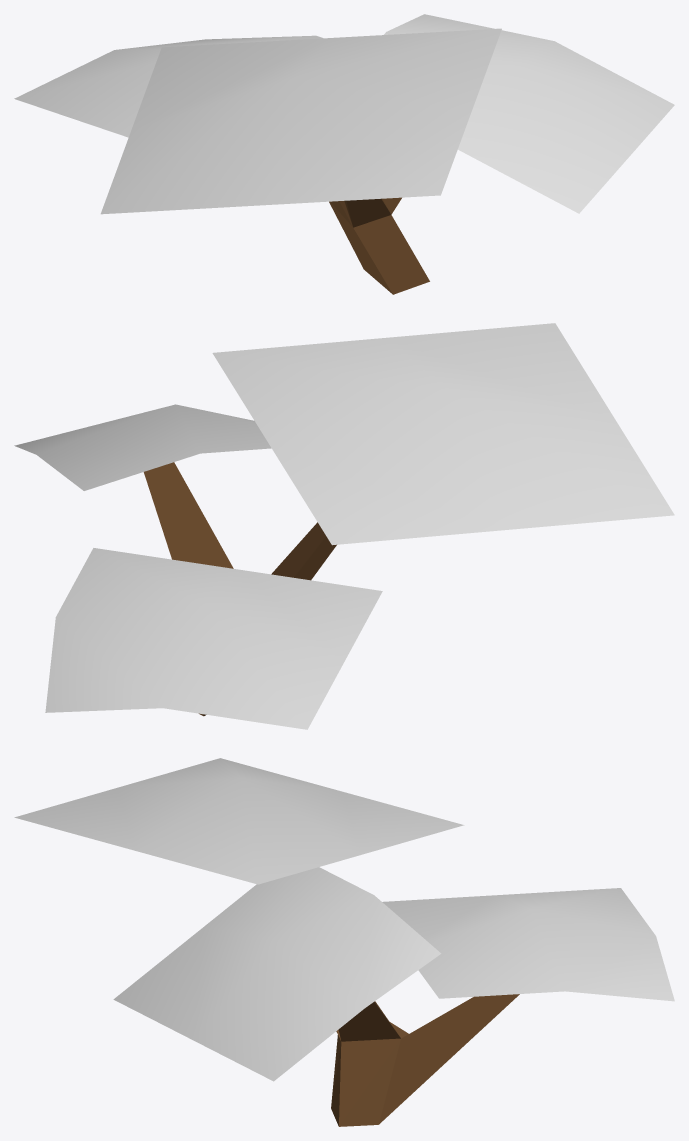
Rendered from flatFernSmall.fbx.
3 renders of one model, top to bottom at view 1: azimuth 30°, elevation 25°; view 2: azimuth 150°, elevation 25°; view 3: azimuth 270°, elevation 25°, orthographic. The views are drawn at different scales.
Visible parts, largest first — view 1: Plane.002, Plane.000, Plane.005, Cube; view 2: Plane.002, Plane.005, Plane.000, Cube; view 3: Plane.000, Plane.002, Plane.005, Cube.
Part boxes in pixels (left/top/right/bottom): Plane.002: left=100, top=28, right=501, bottom=214; Plane.000: left=384, top=14, right=674, bottom=213; Plane.005: left=14, top=35, right=322, bottom=137; Cube: left=329, top=197, right=429, bottom=294; Plane.002: left=212, top=323, right=674, bottom=545; Plane.005: left=45, top=548, right=382, bottom=729; Plane.000: left=14, top=404, right=271, bottom=490; Cube: left=143, top=462, right=336, bottom=716; Plane.000: left=113, top=867, right=441, bottom=1081; Plane.002: left=14, top=758, right=464, bottom=884; Plane.005: left=382, top=888, right=674, bottom=1001; Cube: left=331, top=994, right=519, bottom=1126.
Bounding box in the file's own units: 29.67 × 13.56 × 30.78.
